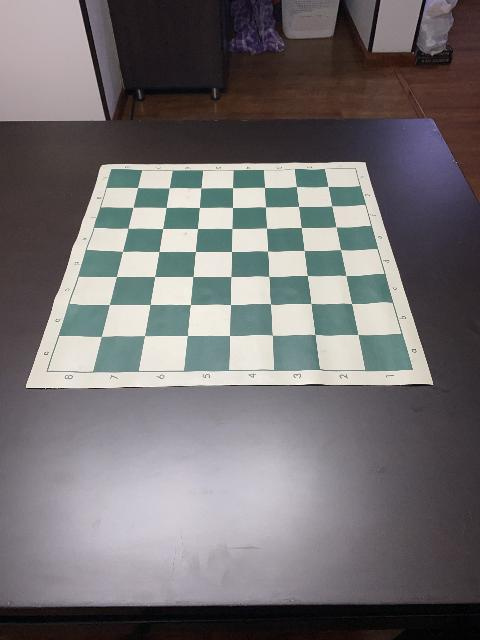board: (26, 161, 434, 389)
